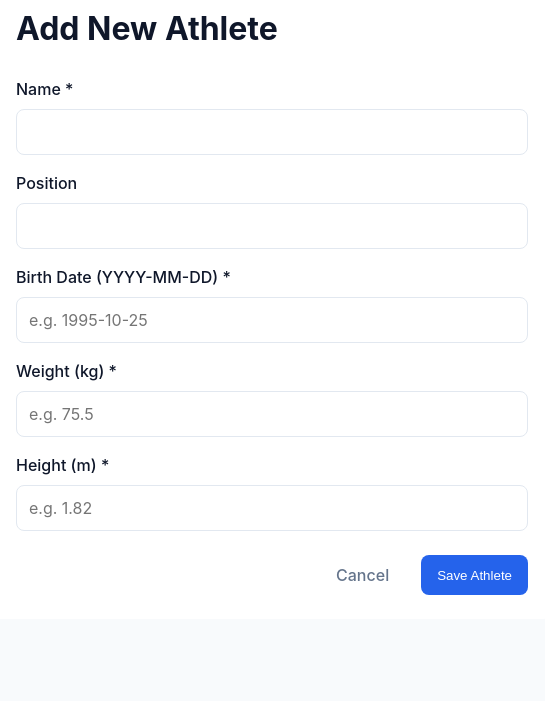
Test: AthleteCreatePage › validates date format and validity
Type "10-25-1995" into the field labelled "Birth Date (YYYY-MM-DD) *".
click(272, 320); type("10-25-1995")  # box [16, 297, 528, 343]
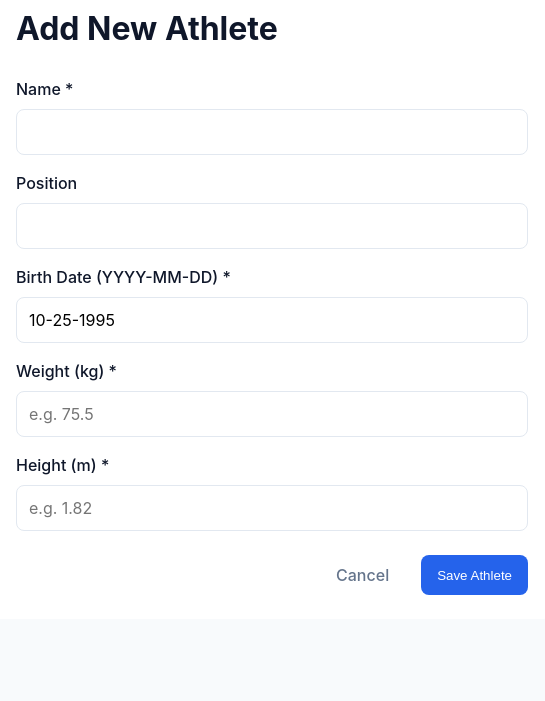
Click the button "Save Athlete".
click(475, 575)  # box [421, 555, 528, 595]
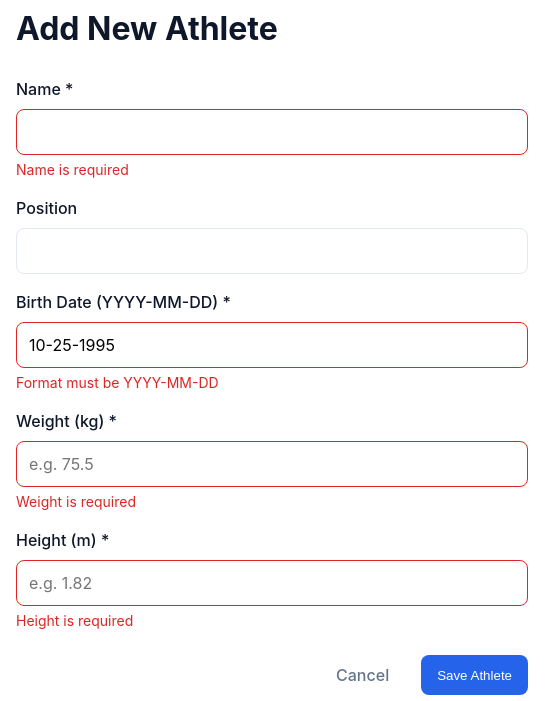
Result: the text "Format must be YYYY-MM-DD" is shown at [16, 374, 219, 391]
Replace the text in the field labelled "Birth Date (YYYY-MM-DD) *" with "1899-01-01" at (272, 345), box [16, 322, 528, 368]
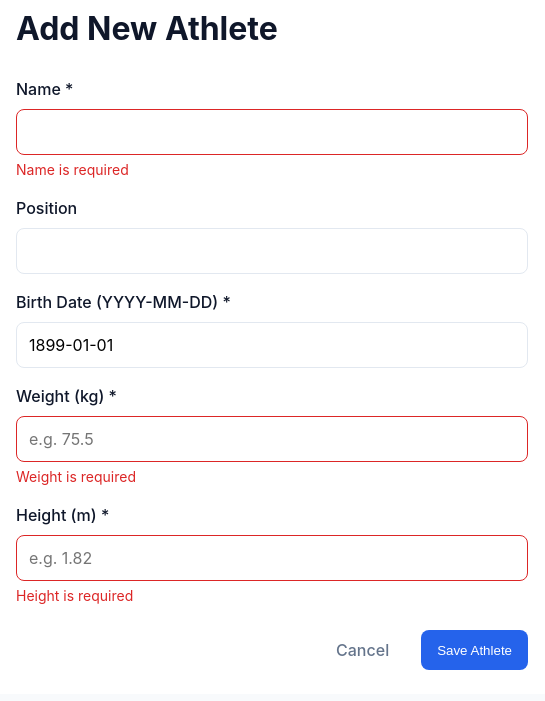
Click the button "Save Athlete".
click(475, 650)  # box [421, 630, 528, 670]
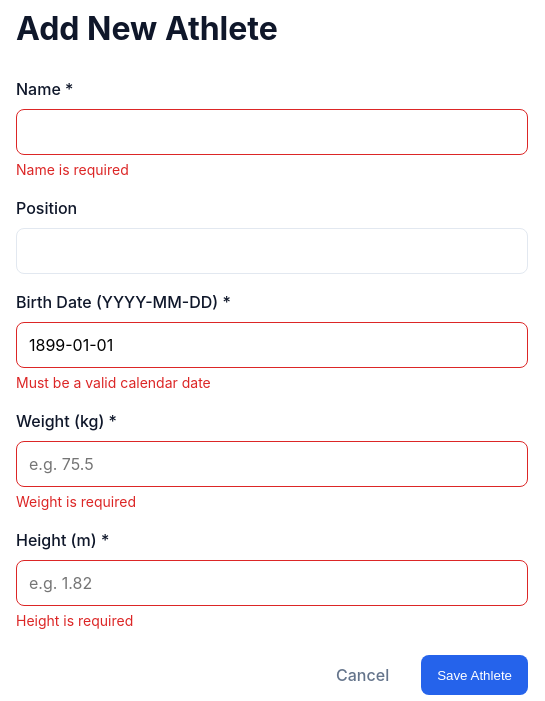
Result: the text "Must be a valid calendar date" is shown at [16, 374, 211, 391]
